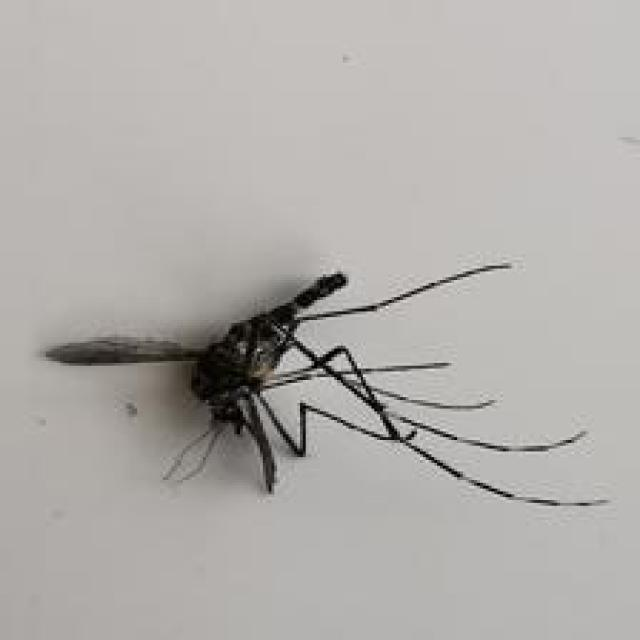Aedes albopictus: (41, 260, 610, 509)
